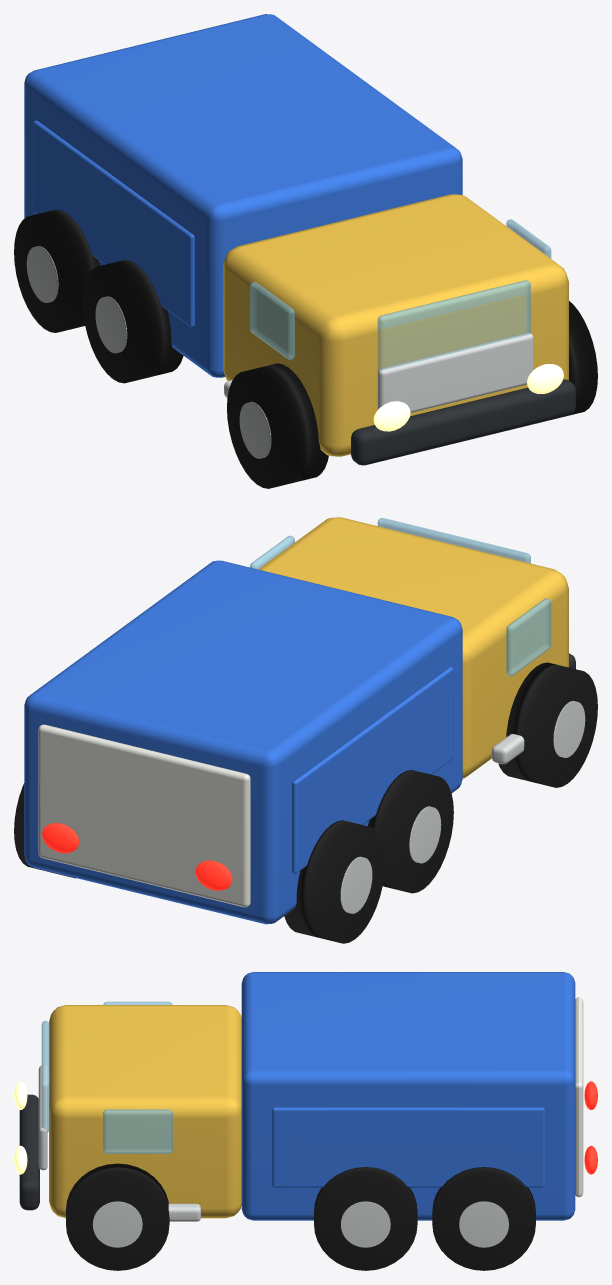
The model's file is cartoon_truck.glb.
The picture shows the model from 3 angles, top to bottom: view 1: azimuth 30°, elevation 25°; view 2: azimuth 150°, elevation 25°; view 3: azimuth 270°, elevation 25°; orthographic projection. The views are drawn at different scales.
Visible parts, largest first — view 1: truck_cargo_box, truck_cab_body, truck_cargo_side_panel_left, truck_window_windshield, truck_wheel_FL_tire, truck_bumper_front, truck_grille_front, truck_wheel_ML_tire, truck_wheel_RL_tire, truck_window_left, truck_wheel_FR_tire, truck_wheel_ML_hubcap_inner (+4 smaller); view 2: truck_cargo_box, truck_cab_body, truck_cargo_rear_door, truck_cargo_side_panel_left, truck_wheel_FL_tire, truck_wheel_RL_tire, truck_wheel_ML_tire, truck_window_left, truck_window_windshield, truck_wheel_RL_hubcap_inner, truck_wheel_FL_hubcap_inner, truck_wheel_ML_hubcap_inner (+4 smaller); view 3: truck_cargo_box, truck_cab_body, truck_cargo_side_panel_right, truck_wheel_FR_tire, truck_wheel_MR_tire, truck_wheel_RR_tire, truck_window_right, truck_bumper_front, truck_wheel_MR_hubcap_inner, truck_wheel_FR_hubcap_inner, truck_wheel_RR_hubcap_inner, truck_cargo_rear_door (+3 smaller).
Part boxes in pixels (bbox=[...]): truck_cargo_box: bbox=[24, 14, 462, 377]; truck_cab_body: bbox=[223, 194, 568, 456]; truck_cargo_side_panel_left: bbox=[33, 120, 194, 327]; truck_window_windshield: bbox=[377, 280, 530, 370]; truck_wheel_FL_tire: bbox=[227, 363, 328, 488]; truck_bumper_front: bbox=[351, 379, 575, 465]; truck_grille_front: bbox=[377, 333, 533, 412]; truck_wheel_ML_tire: bbox=[82, 260, 183, 383]; truck_wheel_RL_tire: bbox=[14, 209, 99, 332]; truck_window_left: bbox=[250, 282, 294, 359]; truck_wheel_FR_tire: bbox=[569, 301, 597, 415]; truck_wheel_ML_hubcap_inner: bbox=[95, 296, 127, 353]; truck_cargo_box: bbox=[24, 560, 462, 924]; truck_cab_body: bbox=[258, 517, 568, 778]; truck_cargo_rear_door: bbox=[38, 724, 250, 907]; truck_cargo_side_panel_left: bbox=[292, 667, 453, 873]; truck_wheel_FL_tire: bbox=[498, 662, 597, 787]; truck_wheel_RL_tire: bbox=[284, 820, 384, 943]; truck_wheel_ML_tire: bbox=[368, 770, 453, 893]; truck_window_left: bbox=[506, 598, 551, 676]; truck_window_windshield: bbox=[377, 518, 530, 563]; truck_wheel_RL_hubcap_inner: bbox=[340, 856, 372, 913]; truck_wheel_FL_hubcap_inner: bbox=[553, 701, 585, 757]; truck_wheel_ML_hubcap_inner: bbox=[409, 806, 441, 863]; truck_cargo_box: bbox=[241, 972, 575, 1220]; truck_cab_body: bbox=[49, 1005, 241, 1218]; truck_cargo_side_panel_right: bbox=[272, 1107, 544, 1187]; truck_wheel_FR_tire: bbox=[66, 1163, 169, 1270]; truck_wheel_MR_tire: bbox=[314, 1167, 417, 1270]; truck_wheel_RR_tire: bbox=[432, 1167, 535, 1270]; truck_window_right: bbox=[103, 1109, 172, 1153]; truck_bumper_front: bbox=[19, 1094, 39, 1210]; truck_wheel_MR_hubcap_inner: bbox=[341, 1201, 390, 1247]; truck_wheel_FR_hubcap_inner: bbox=[92, 1201, 142, 1247]; truck_wheel_RR_hubcap_inner: bbox=[459, 1201, 508, 1247]; truck_cargo_rear_door: bbox=[575, 997, 583, 1197].
Size of what is drawn, in the model's own units: 2.79 by 1.8 by 5.18.
